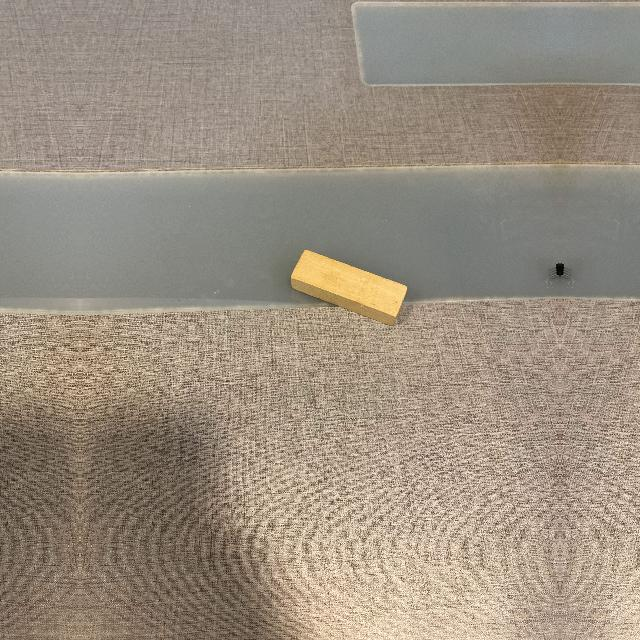jenga: (291, 250, 408, 325)
